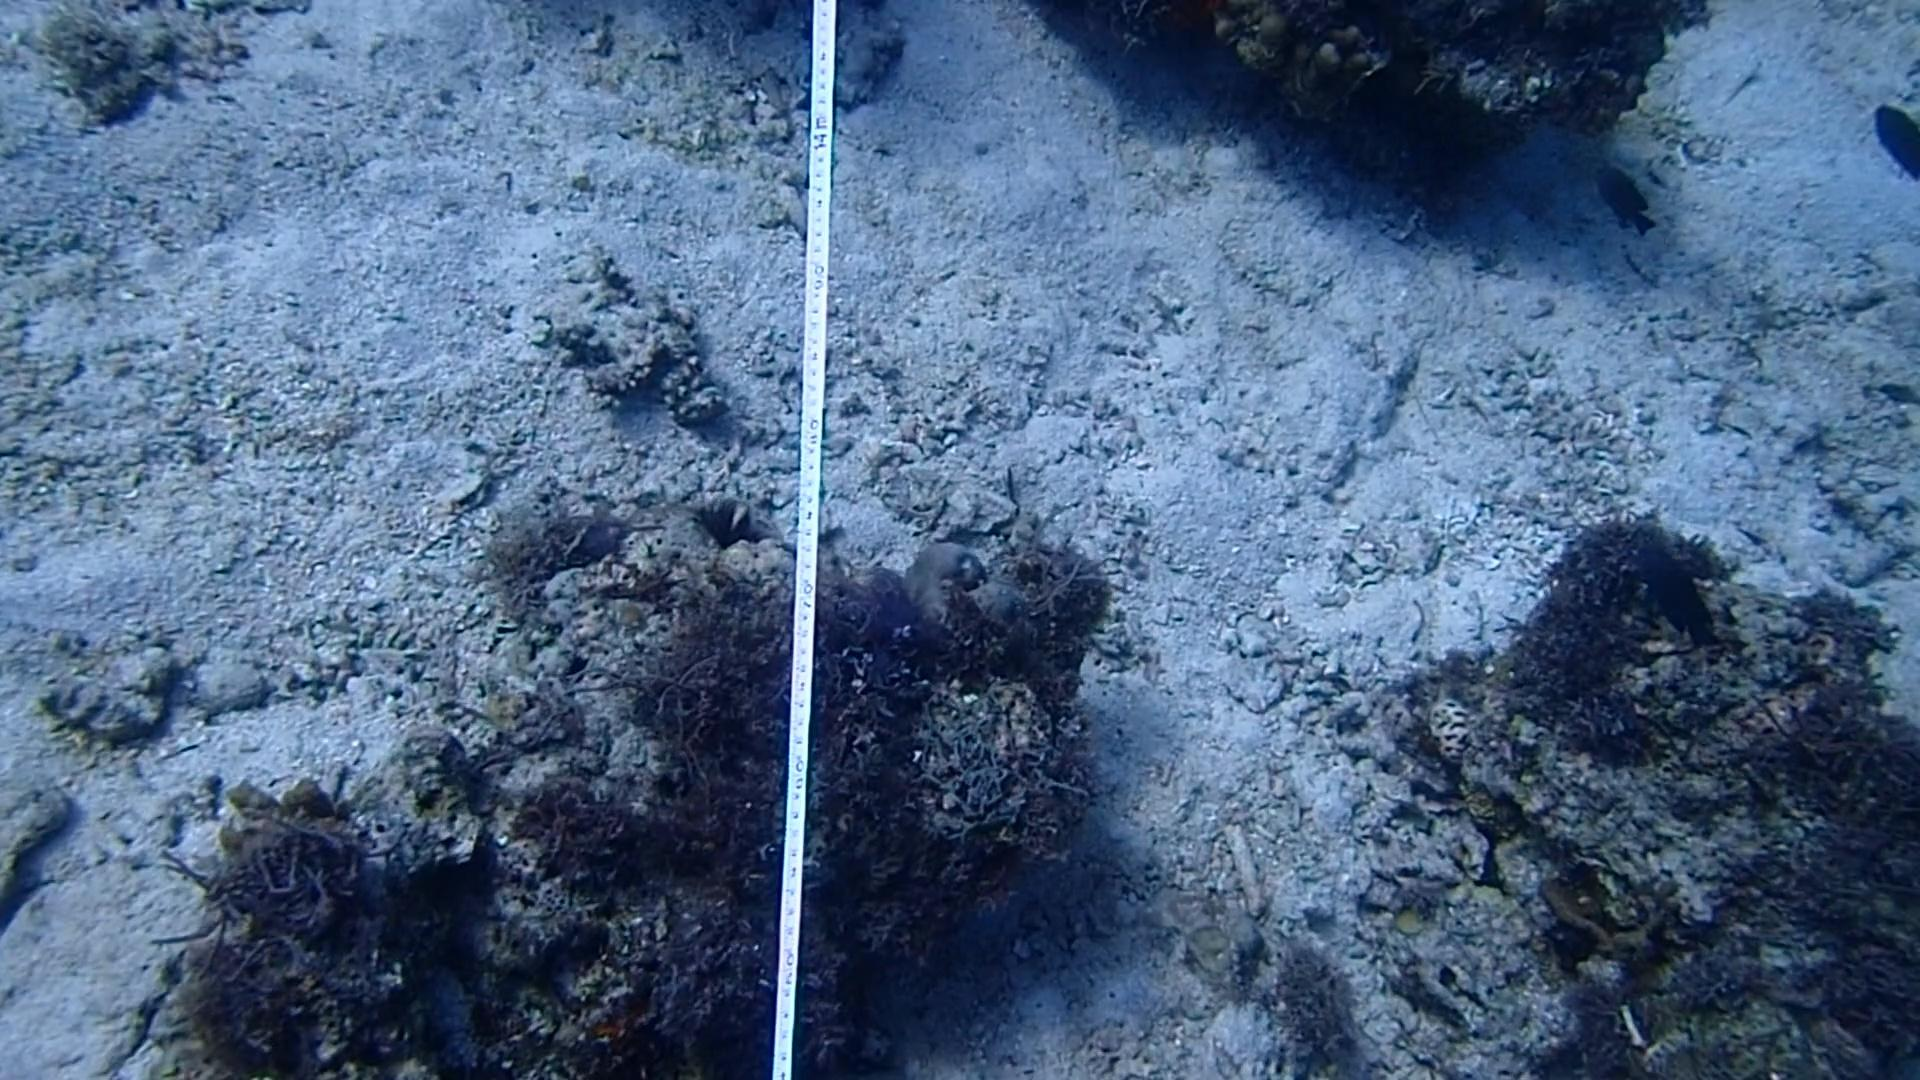Dark Fish: (1633, 524, 1718, 633), (1854, 92, 1920, 186), (1594, 157, 1658, 233)
